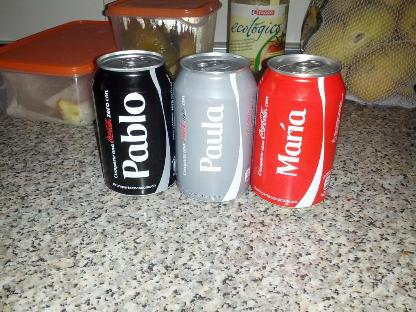Can: (251, 50, 357, 222), (87, 47, 177, 205), (171, 48, 259, 204)
